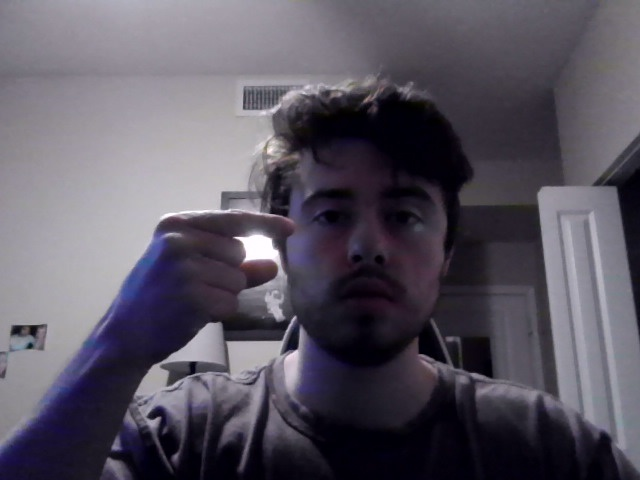g: (98, 209, 297, 371)
